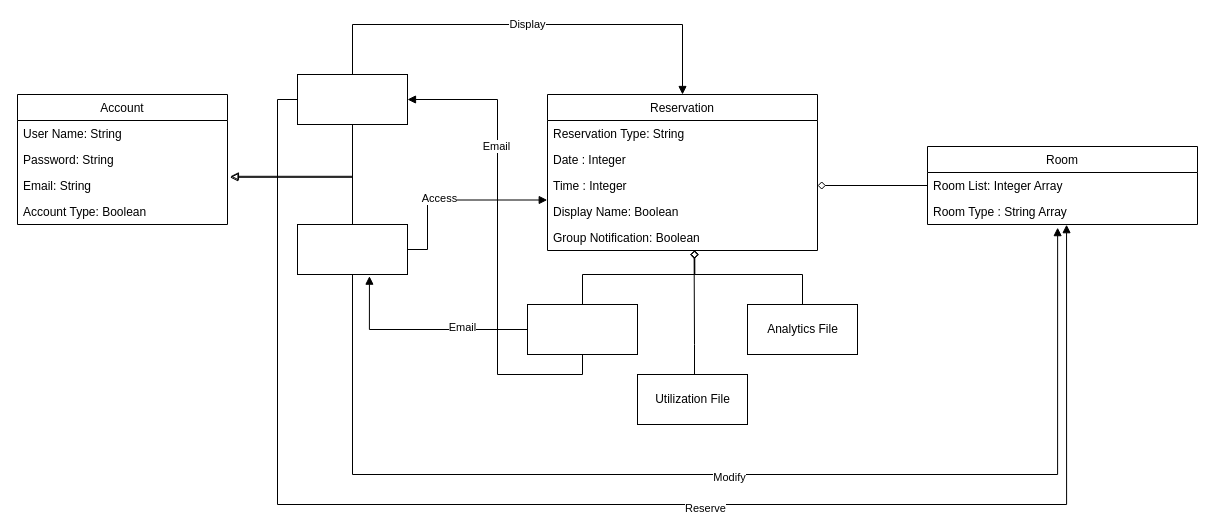
This 1215x532 diagram has some shape labels left out. Each missing label, with the centre of its shape:
Admin: (352,249)
Notification: (582,329)
User: (352,99)
